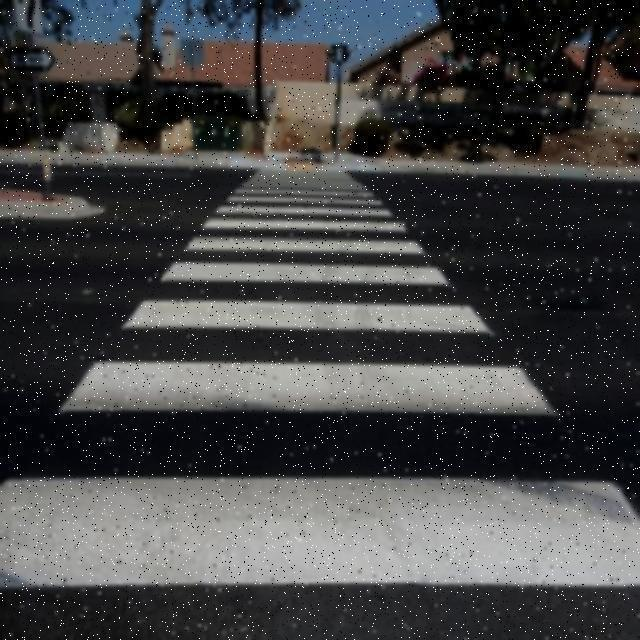crosswalk: (0, 167, 640, 589)
